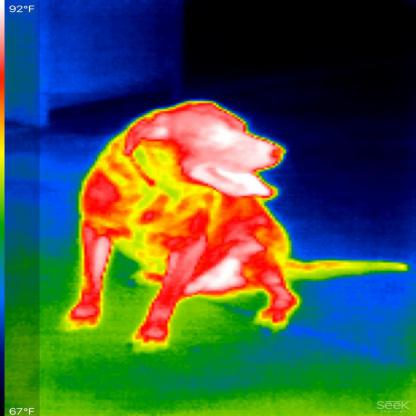dog: (59, 95, 411, 348)
